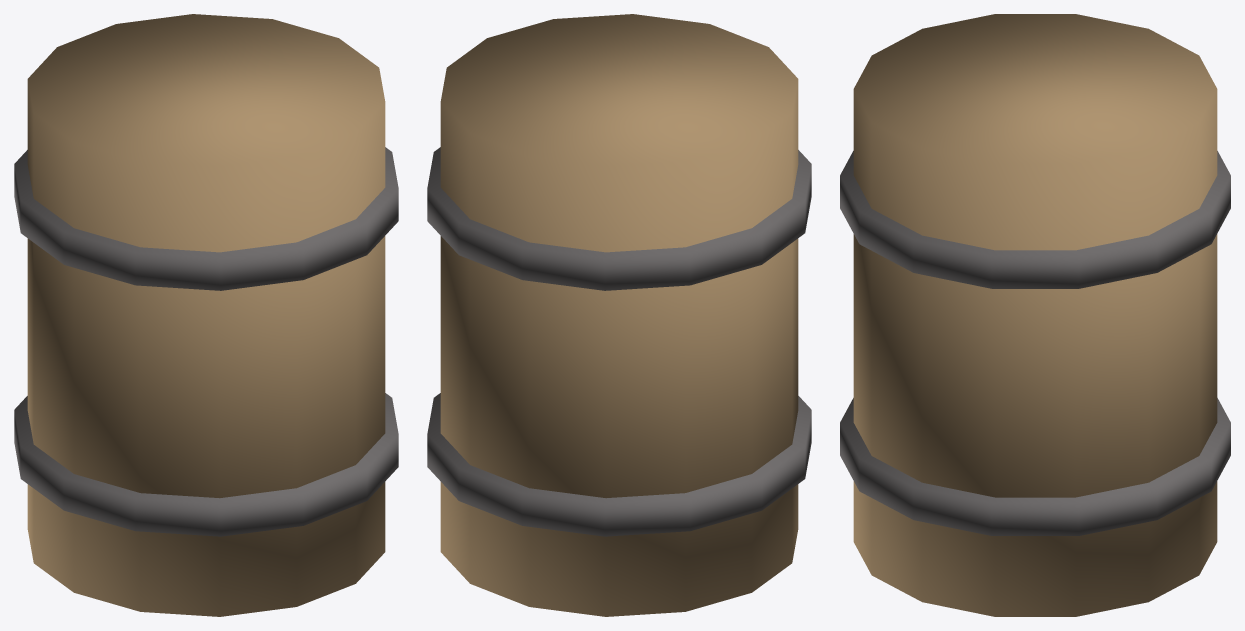
File: barrel.glb
3 renders of one model, left to right at view 1: azimuth 30°, elevation 25°; view 2: azimuth 150°, elevation 25°; view 3: azimuth 270°, elevation 25°, orthographic.
Visible parts, largest first — view 1: Cylinder, Cylinder.001, Cylinder.002; view 2: Cylinder, Cylinder.001, Cylinder.002; view 3: Cylinder, Cylinder.001, Cylinder.002.
Boxes of the visible parts, bbox=[...] form: Cylinder: bbox=[27, 14, 385, 616]; Cylinder.001: bbox=[14, 393, 398, 536]; Cylinder.002: bbox=[14, 147, 398, 290]; Cylinder: bbox=[440, 14, 798, 616]; Cylinder.001: bbox=[427, 393, 811, 536]; Cylinder.002: bbox=[427, 147, 811, 290]; Cylinder: bbox=[853, 14, 1217, 616]; Cylinder.001: bbox=[840, 398, 1230, 535]; Cylinder.002: bbox=[840, 151, 1230, 288].
Size of the model in its own units: 0.8384 by 1.1 by 0.86.
